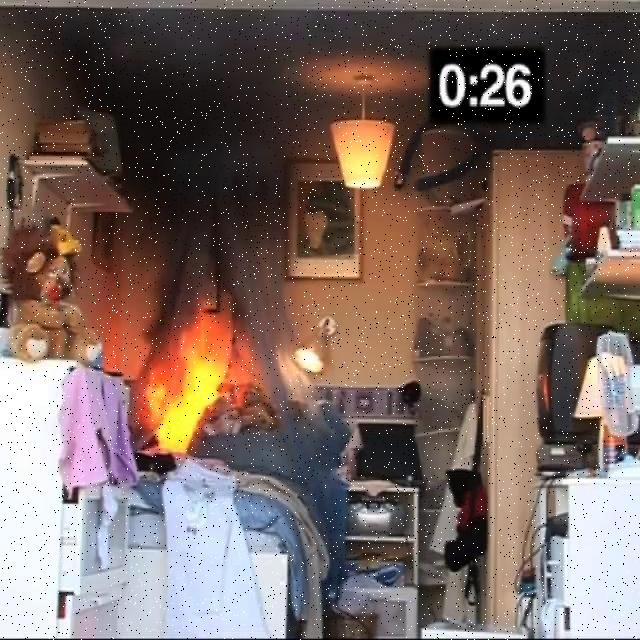fire: (145, 352, 242, 453)
light: (324, 109, 400, 201)
smoke: (80, 21, 303, 170)
